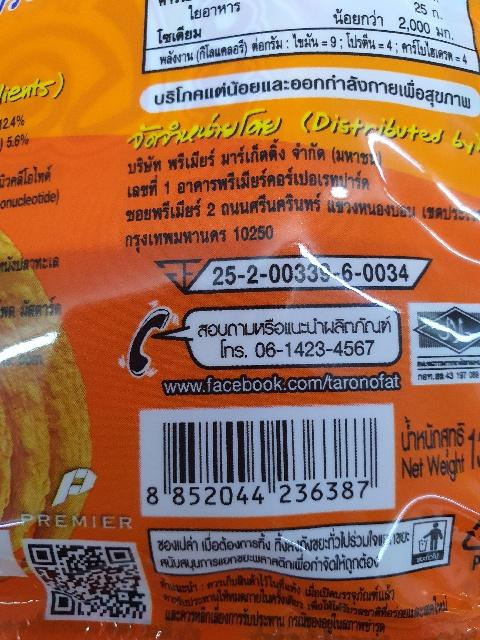Barcode: (139, 406, 396, 515)
